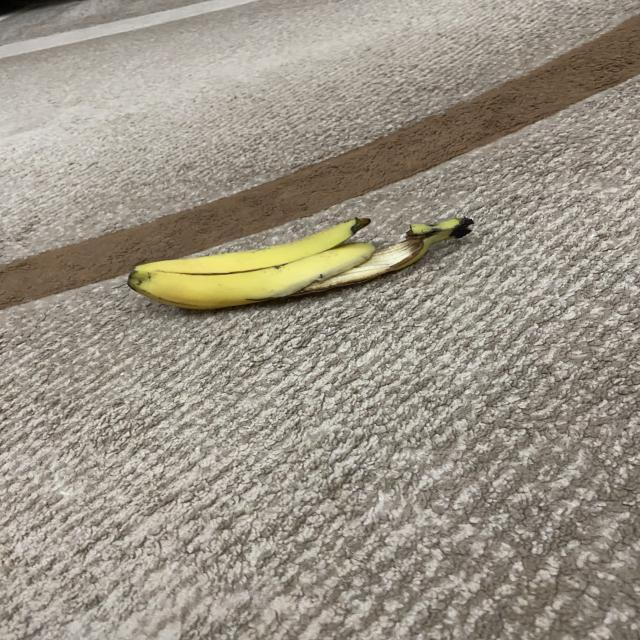banana-peel: (126, 213, 473, 311)
